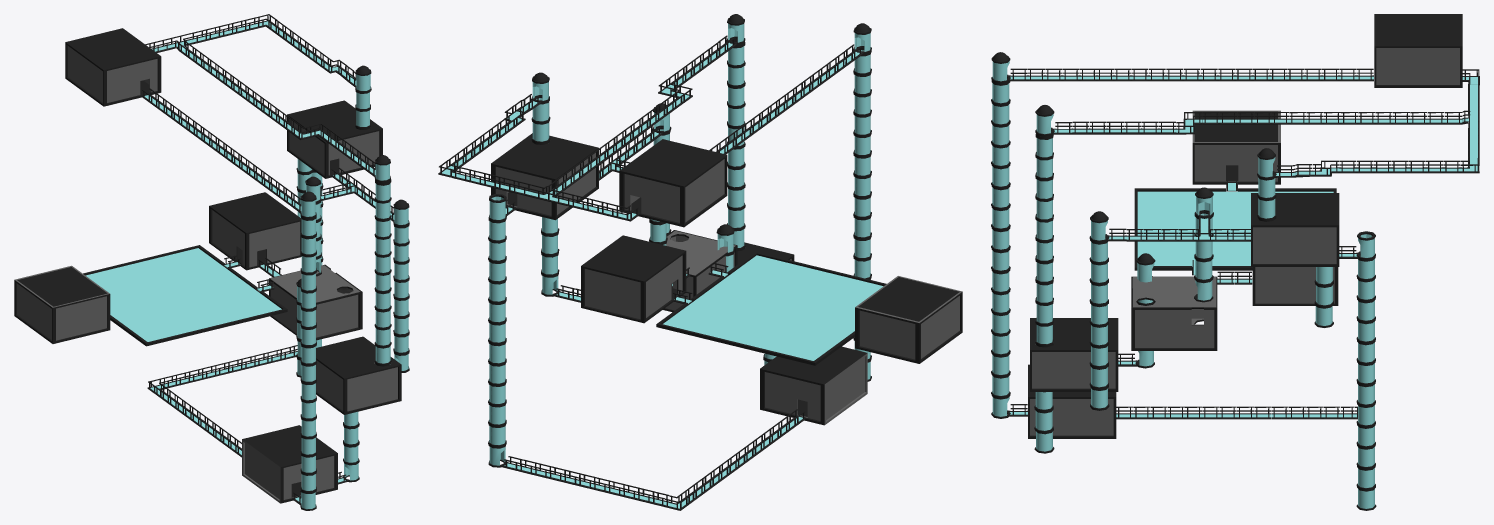
3 renders of one model, left to right at view 1: azimuth 30°, elevation 25°; view 2: azimuth 150°, elevation 25°; view 3: azimuth 270°, elevation 25°, orthographic. The views are drawn at different scales.
Visible parts, largest first — view 1: Box435, Salle TypeTrue004, Salle TypeTrue003, Salle Braquage 1, Salle B2, Salle T3, Salle TypeTrue002, Salle Tram 1; view 2: Box435, Salle TypeTrue004, Salle TypeTrue003, Salle Braquage 1, Salle T3, Salle TypeTrue002, Salle Tram 1; view 3: Box435, Salle TypeTrue003, Salle TypeTrue002, Salle Tram 1, Salle TypeTrue004, Salle B2, Salle T3, Salle Braquage 1.
Part boxes in pixels (<box>): Box435: <box>83,245,287,346</box>; Salle TypeTrue004: <box>14,265,110,343</box>; Salle TypeTrue003: <box>65,28,161,106</box>; Salle Braquage 1: <box>209,192,301,270</box>; Salle B2: <box>316,336,401,414</box>; Salle T3: <box>242,425,337,503</box>; Salle TypeTrue002: <box>287,100,382,178</box>; Salle Tram 1: <box>269,264,362,340</box>; Box435: <box>656,252,886,365</box>; Salle TypeTrue004: <box>855,276,962,363</box>; Salle TypeTrue003: <box>619,139,727,227</box>; Salle Braquage 1: <box>581,235,686,323</box>; Salle T3: <box>760,346,867,425</box>; Salle TypeTrue002: <box>491,133,598,220</box>; Salle Tram 1: <box>663,230,737,312</box>; Box435: <box>1134,188,1336,270</box>; Salle TypeTrue003: <box>1374,14,1462,87</box>; Salle TypeTrue002: <box>1251,193,1339,266</box>; Salle Tram 1: <box>1131,276,1217,350</box>; Salle TypeTrue004: <box>1192,110,1280,184</box>; Salle B2: <box>1030,318,1118,391</box>; Salle T3: <box>1028,364,1116,438</box>; Salle Braquage 1: <box>1252,267,1338,305</box>.
Bounding box in the file's own units: 1636 × 1447 × 1696.
